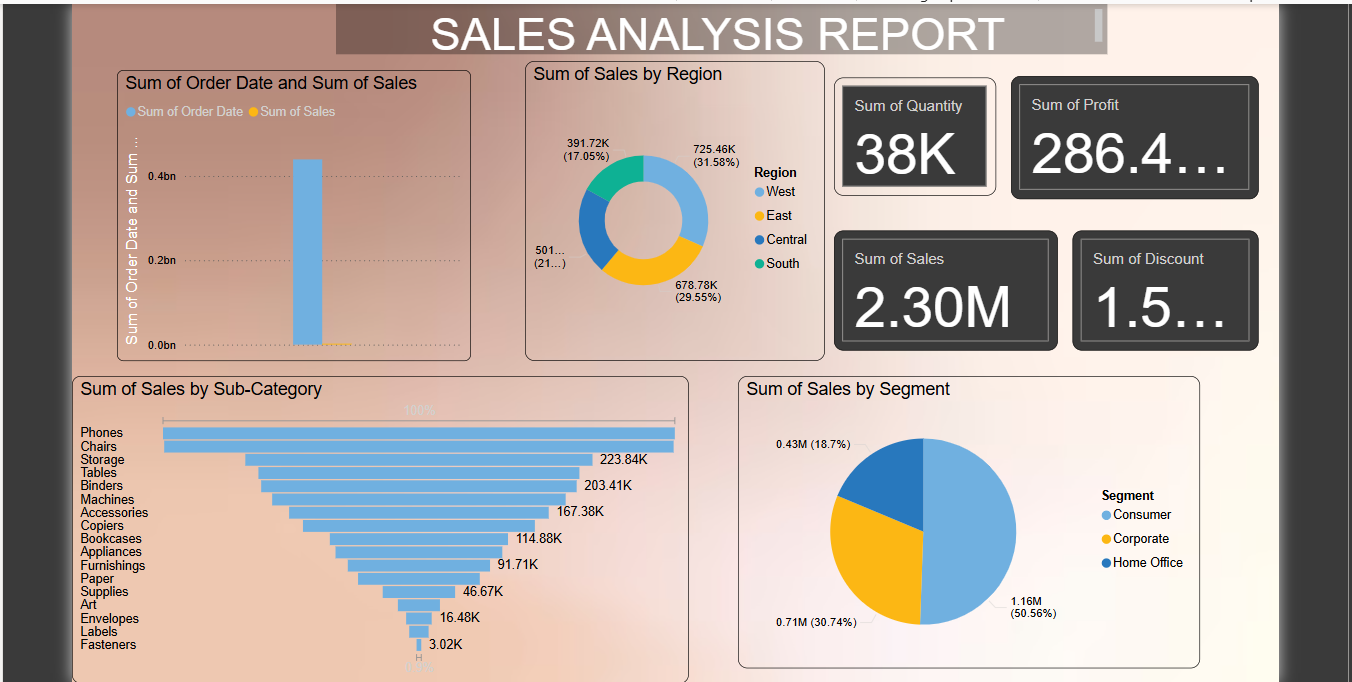

This screenshot's page, from the dashboard's own definition file:
{"tool":"powerbi","page":{"name":"Page 1","canvas":[1280,720],"ordinal":0},"visuals":[{"type":"donutChart","fields":{"Category":["Orders.Region"],"Y":["Sum(Orders.Sales)"]},"box":[480.4,60.4,318.1,318.1],"z":0},{"type":"funnel","fields":{"Category":["Orders.Sub-Category"],"Y":["Sum(Orders.Sales)"]},"box":[0,394.5,653.7,326.1],"z":1000},{"type":"pieChart","fields":{"Category":["Orders.Segment"],"Y":["Sum(Orders.Sales)"]},"box":[706.2,394.5,489.9,310.2],"z":3000},{"type":"clusteredColumnChart","fields":{"Y":["Sum(Orders.Order Date)","Sum(Orders.Sales)"]},"box":[47.7,70,375.4,308.6],"z":4000},{"type":"cardVisual","fields":{"Data":["Sum(Orders.Sales)"]},"box":[808,240.2,237,127.2],"z":5000},{"type":"cardVisual","fields":{"Data":["Sum(Orders.Profit)"]},"box":[995.7,76.3,262.5,130.4],"z":6000},{"type":"cardVisual","fields":{"Data":["Sum(Orders.Discount)"]},"box":[1060.9,240.2,197.2,127.2],"z":7000},{"type":"cardVisual","fields":{"Data":["Sum(Orders.Quantity)"]},"box":[808,77.9,171.8,125.7],"z":8000},{"type":"textbox","box":[280.1,0,817.7,53.4],"z":9000}]}

Visuals, with their boxes in screenshot pixels (x1, y1, x2, y2):
donutChart - Orders.Region x Sum(Orders.Sales): [left=523, top=57, right=821, bottom=354]
funnel - Orders.Sub-Category x Sum(Orders.Sales): [left=74, top=369, right=686, bottom=674]
pieChart - Orders.Segment x Sum(Orders.Sales): [left=735, top=369, right=1193, bottom=659]
clusteredColumnChart - Sum(Orders.Order Date) x Sum(Orders.Sales): [left=119, top=65, right=470, bottom=354]
cardVisual - Sum(Orders.Sales): [left=830, top=225, right=1052, bottom=344]
cardVisual - Sum(Orders.Profit): [left=1005, top=71, right=1251, bottom=193]
cardVisual - Sum(Orders.Discount): [left=1066, top=225, right=1251, bottom=344]
cardVisual - Sum(Orders.Quantity): [left=830, top=73, right=991, bottom=190]
textbox: [left=336, top=0, right=1101, bottom=50]
